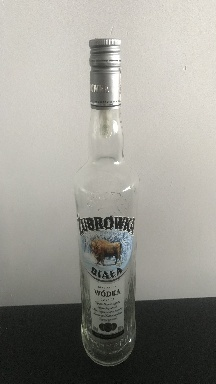butelka: (72, 35, 140, 370)
